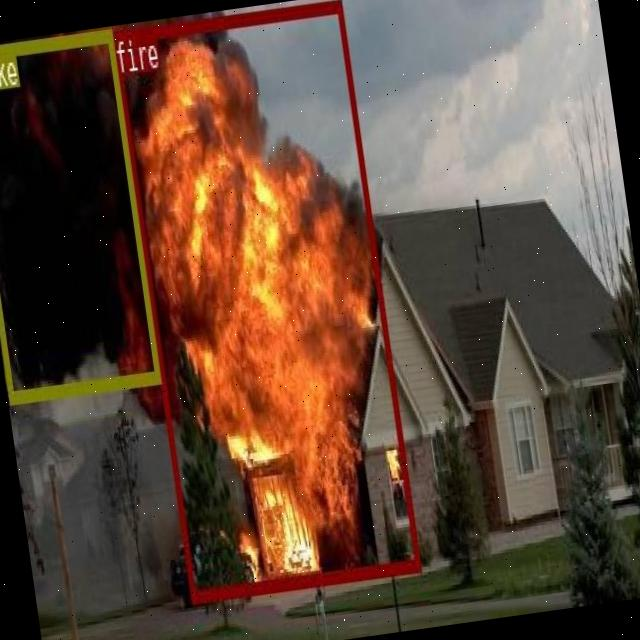fire: (110, 0, 420, 600)
smoke: (0, 27, 159, 401)
